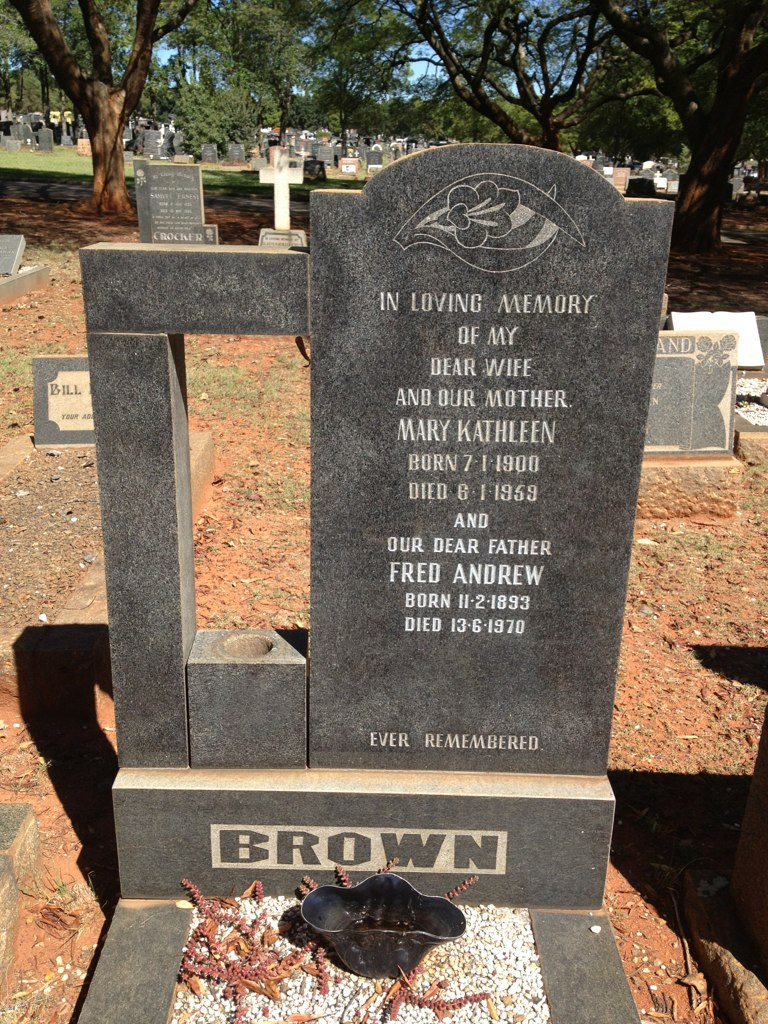upright: (72, 110, 685, 923)
